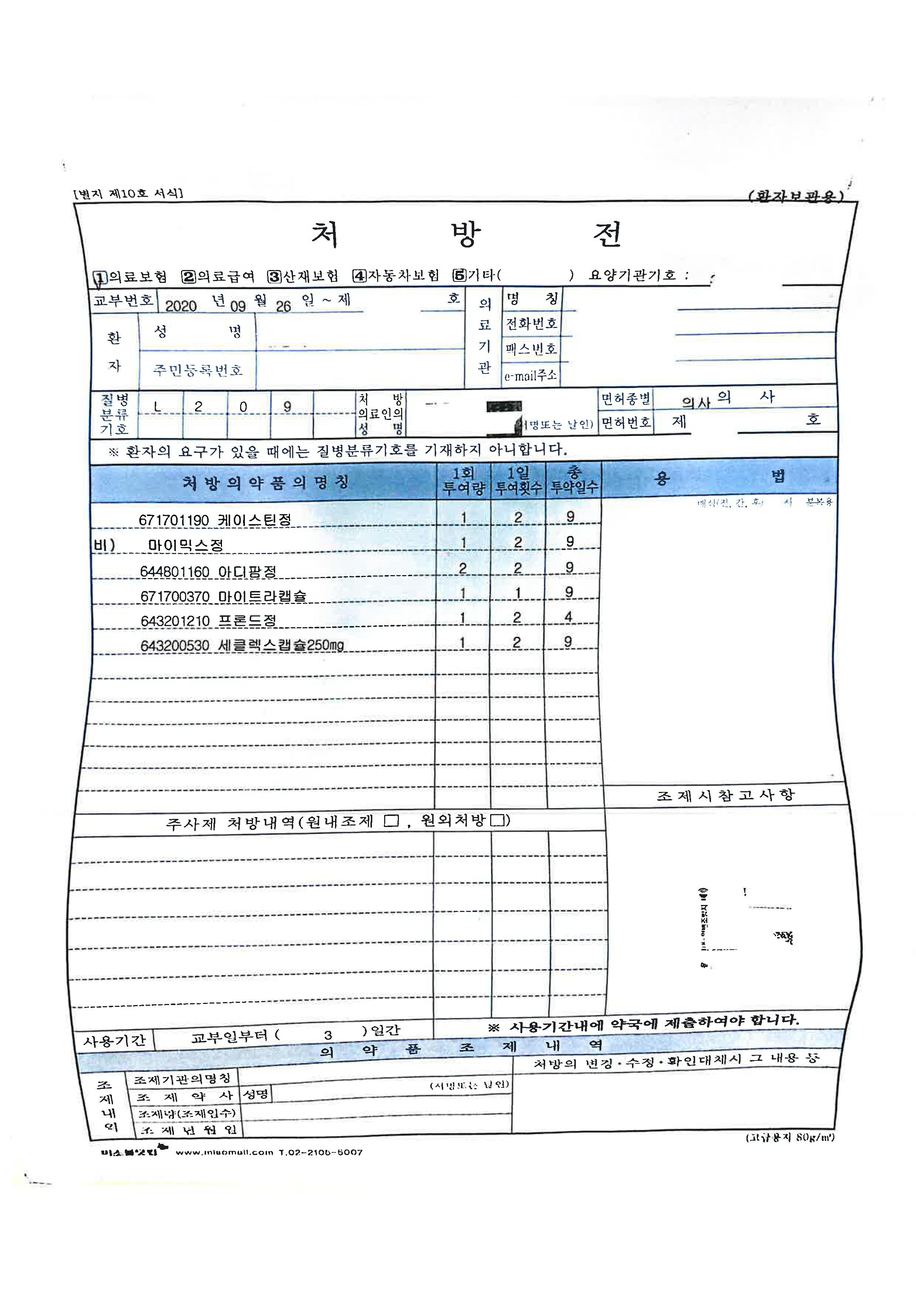row: (71, 200, 845, 288), (603, 464, 833, 714), (604, 785, 852, 1010), (77, 290, 464, 390), (464, 285, 835, 388), (82, 1068, 512, 1136), (517, 1053, 835, 1124), (79, 1014, 848, 1040), (85, 439, 838, 463), (85, 466, 601, 501), (77, 389, 354, 441), (83, 628, 597, 655), (86, 528, 601, 553), (83, 603, 597, 628), (87, 553, 600, 578), (86, 579, 599, 603), (74, 813, 604, 836), (355, 390, 600, 434), (89, 505, 600, 526), (603, 391, 839, 434), (313, 1042, 618, 1062)
